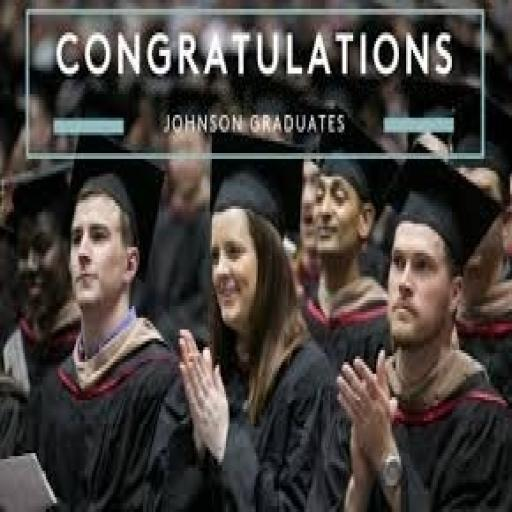clapping: (132, 94, 362, 512), (334, 156, 510, 509), (23, 159, 191, 509)
